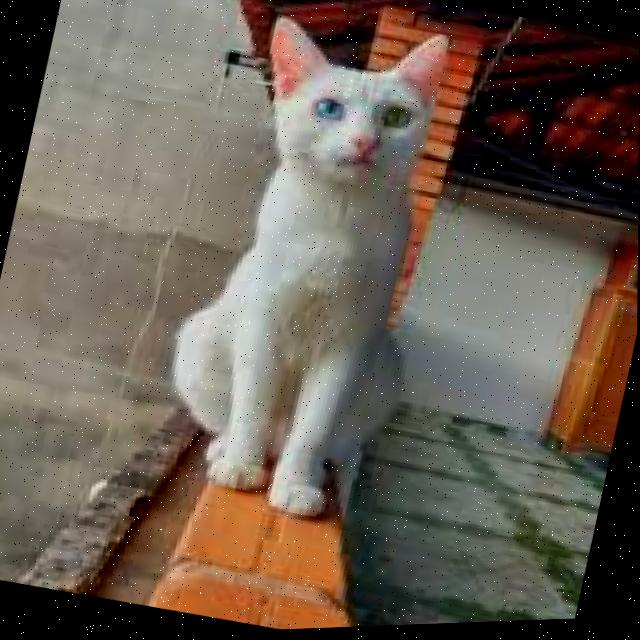Khao Manee: (137, 0, 486, 540)
